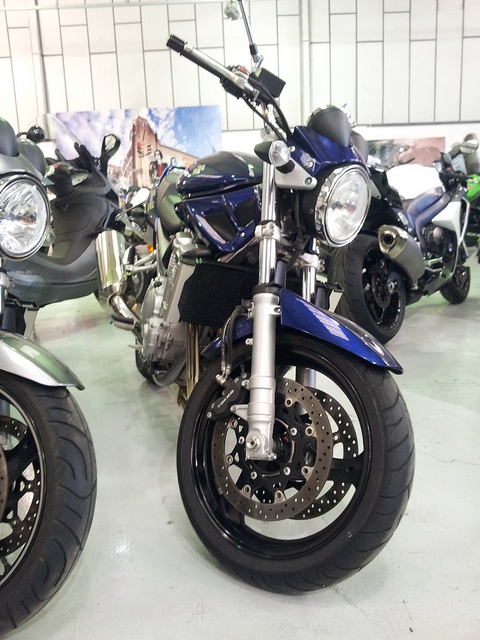non-vehicle: (99, 33, 411, 592), (1, 120, 108, 623), (327, 159, 477, 342)
